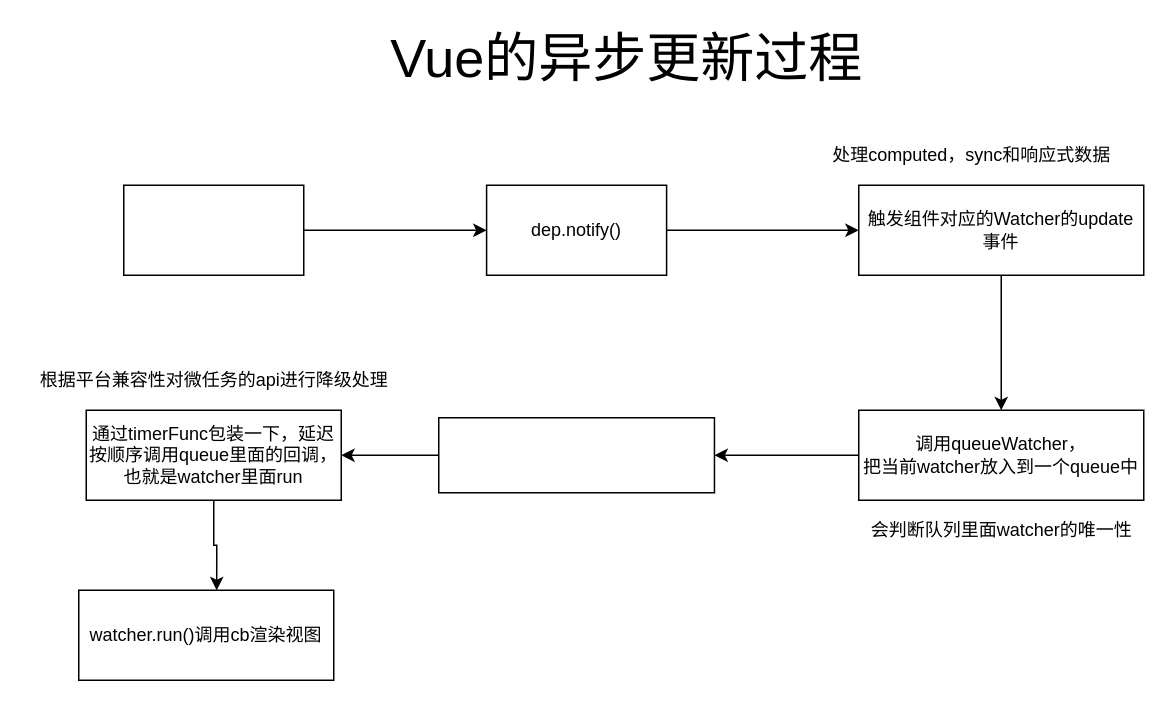
Some shapes in this 1170 by 707 pixel diagram are drawn without their labels. Here are the shapes that lost their labels. From the top down, the centre of each, then its label:
At (213,229): "数据变更，触发set".
At (575,454): "通过flushSchedulerQueue把排序后的queue传入nexttick函数".
